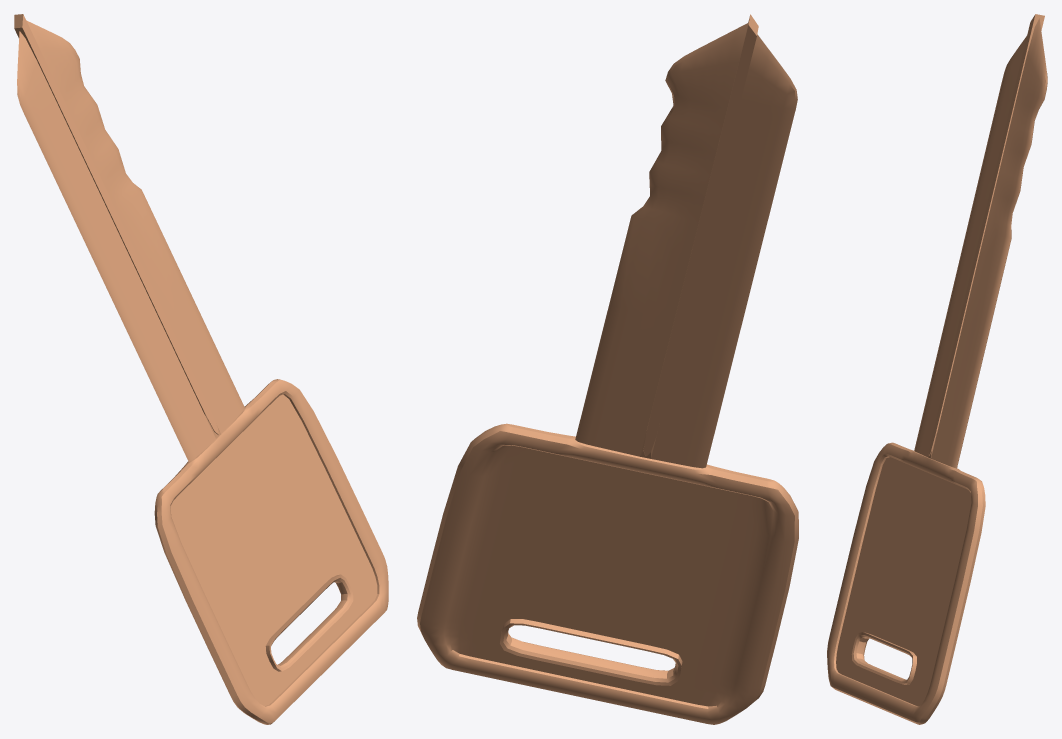
3 renders of one model, left to right at view 1: azimuth 30°, elevation 25°; view 2: azimuth 150°, elevation 25°; view 3: azimuth 270°, elevation 25°, orthographic. The views are drawn at different scales.
Visible parts, largest first — view 1: Key 1.001; view 2: Key 1.001; view 3: Key 1.001.
Part boxes in pixels (x1=…): Key 1.001: x1=14, y1=14, x2=388, y2=724; Key 1.001: x1=417, y1=14, x2=798, y2=724; Key 1.001: x1=827, y1=14, x2=1047, y2=724.
Size of the model in its own units: 0.6561 by 1.26 by 0.4107.
